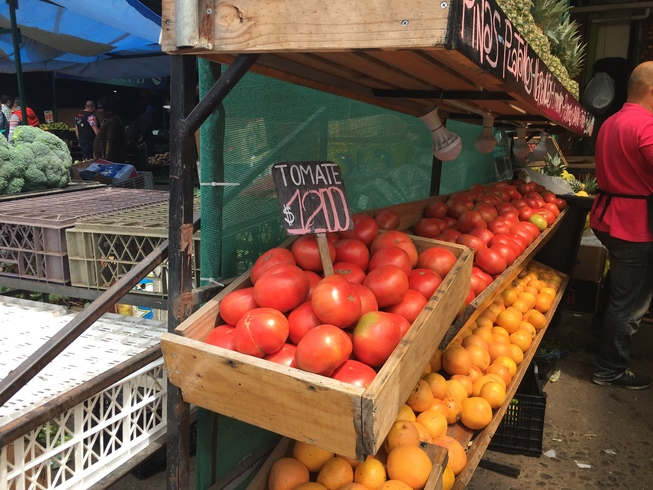precio: (265, 150, 361, 241)
